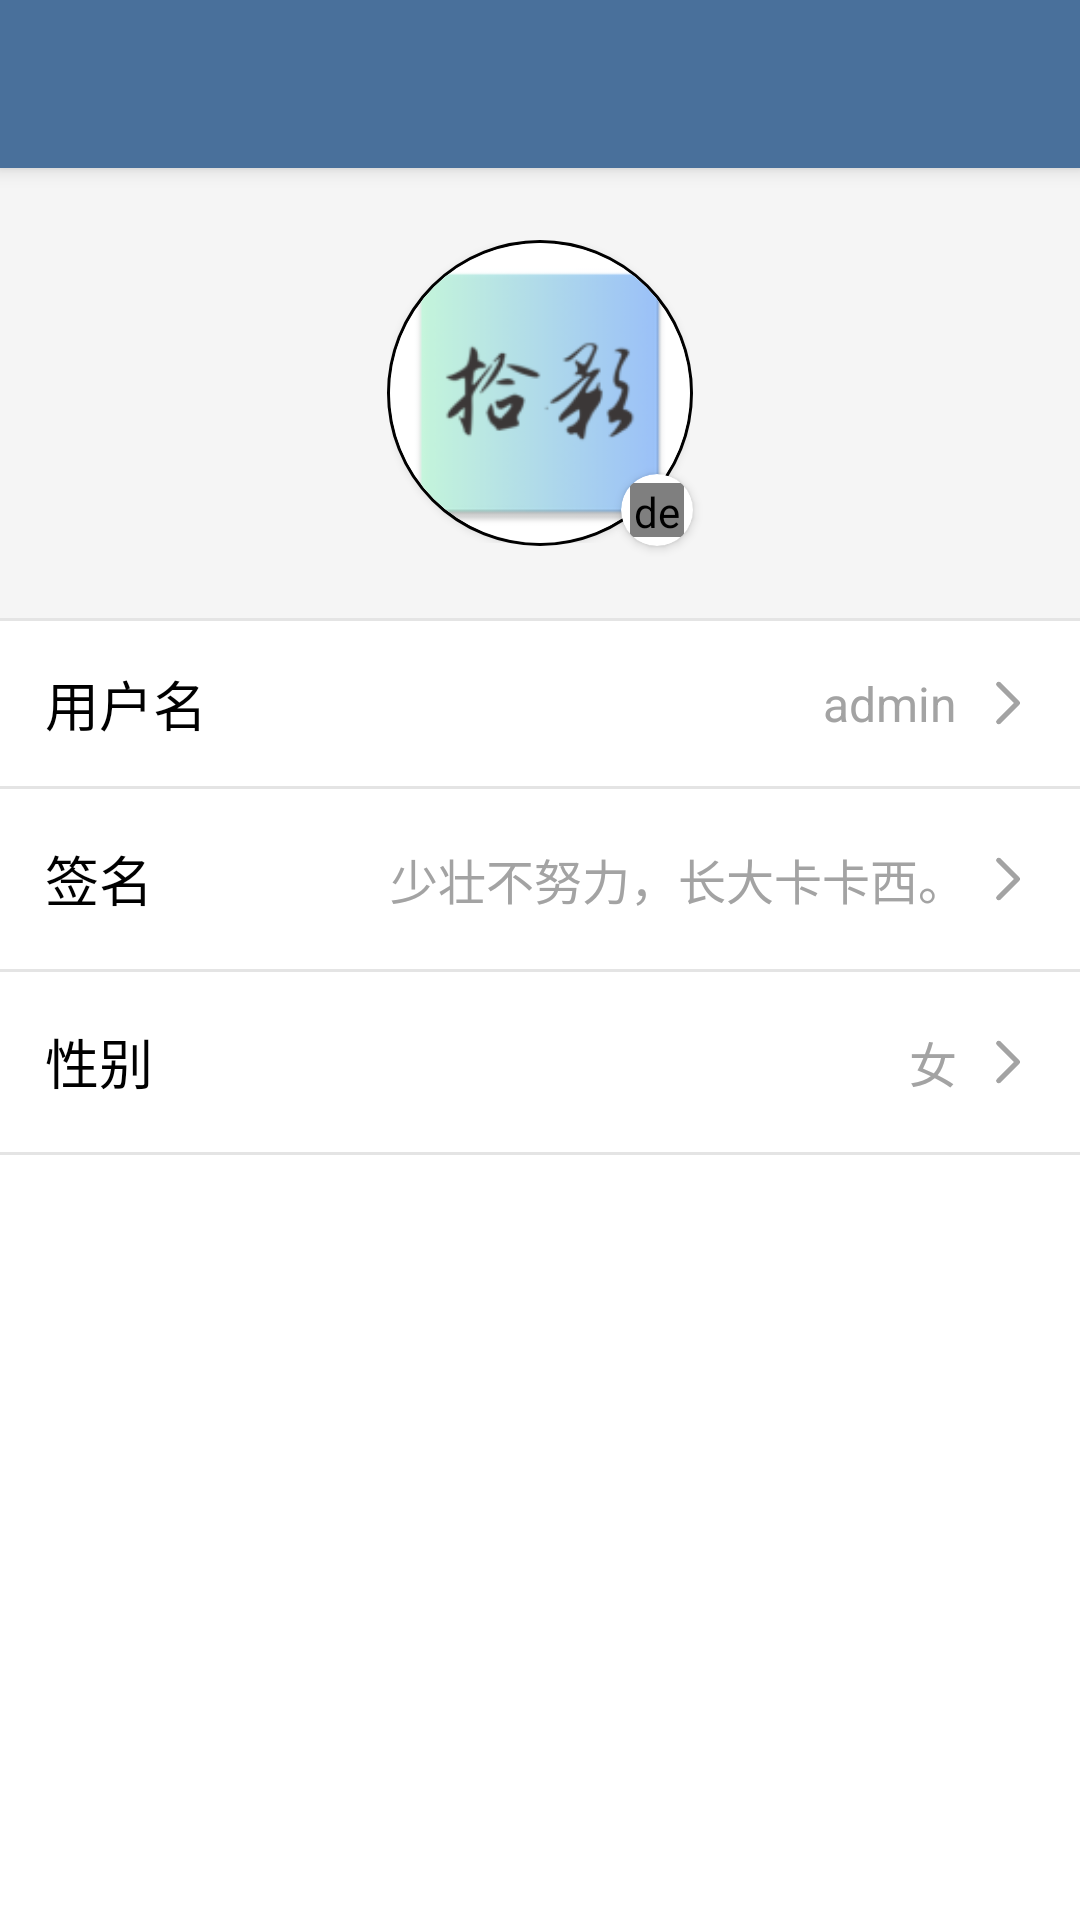

Named icons in this screenshot (1080x1920) and their centers, (x,y):
right: (1008,703), (1008,879), (1008,1062)
